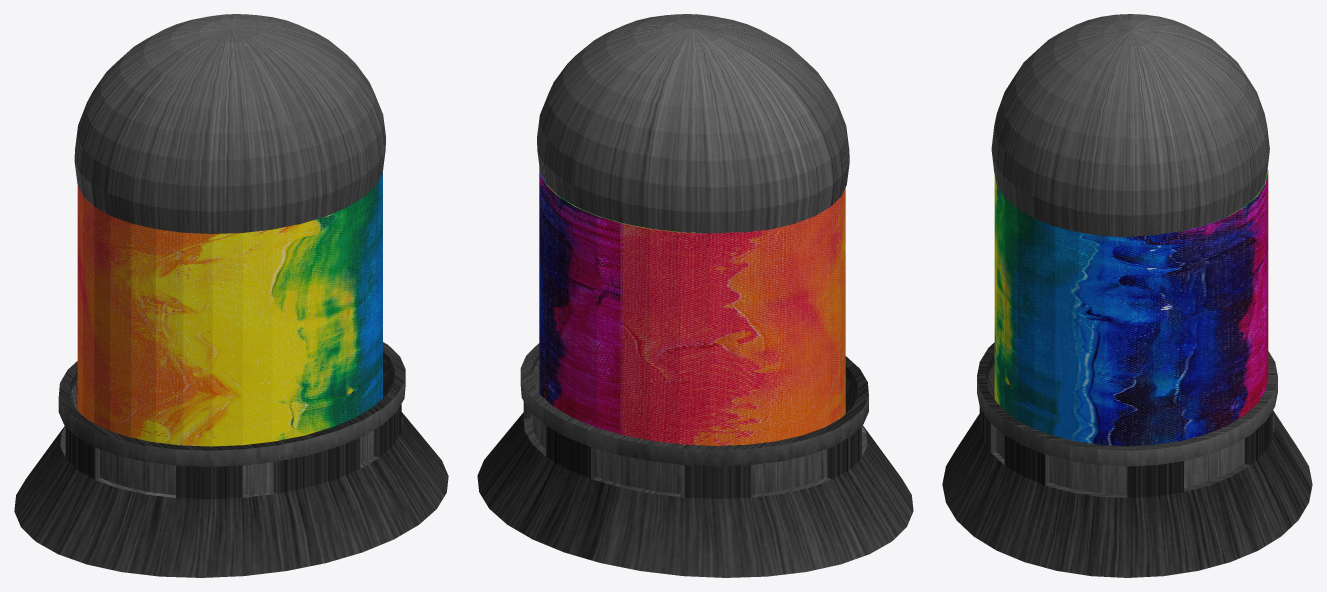
The model's file is Target_Colored.fbx.
The picture shows the model from 3 angles, left to right: view 1: azimuth 30°, elevation 25°; view 2: azimuth 150°, elevation 25°; view 3: azimuth 270°, elevation 25°; orthographic projection. The views are drawn at different scales.
Visible parts, largest first — view 1: Cylinder.003, Sphere, Cylinder, Cylinder.002, Cylinder.001; view 2: Cylinder.003, Sphere, Cylinder, Cylinder.002, Cylinder.001; view 3: Cylinder.003, Sphere, Cylinder, Cylinder.002, Cylinder.001.
Part boxes in pixels (x1,y1,x2,y2): Cylinder.003: [77, 172, 382, 446]; Sphere: [74, 14, 385, 233]; Cylinder: [14, 404, 448, 577]; Cylinder.002: [58, 342, 405, 466]; Cylinder.001: [70, 357, 394, 495]; Cylinder.003: [539, 167, 845, 445]; Sphere: [537, 14, 849, 233]; Cylinder: [477, 401, 913, 577]; Cylinder.002: [520, 343, 868, 466]; Cylinder.001: [532, 360, 857, 494]; Cylinder.003: [994, 169, 1268, 446]; Sphere: [991, 14, 1269, 237]; Cylinder: [942, 407, 1312, 577]; Cylinder.002: [977, 342, 1277, 466]; Cylinder.001: [987, 364, 1244, 494].
Bounding box in the file's own units: 73.52 × 83.22 × 61.54.
